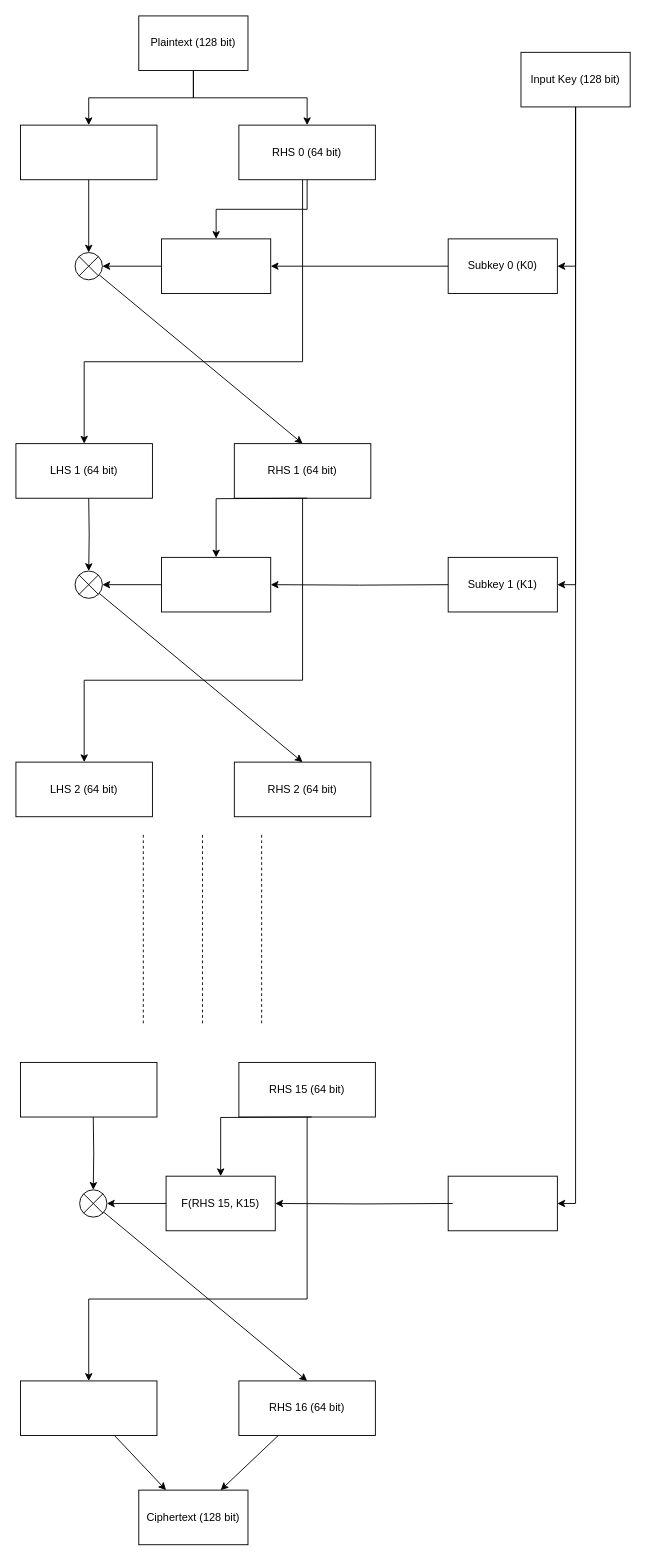
Some shapes in this 646 by 1561 pixel diagram are drawn without their labels. The shapes that lost their labels are listed below. From the top down, each one's centre as x and y in pixels, then its label:
At (88,152): "LHS 0 (64 bit)".
At (216,265): "F(RHS 0, K0)".
At (216,584): "F(RHS 1, K1)".
At (88,1089): "LHS 15 (64 bit)".
At (502,1203): "Subkey 15 (K15)".
At (88,1408): "LHS 16 (64 bit)".
